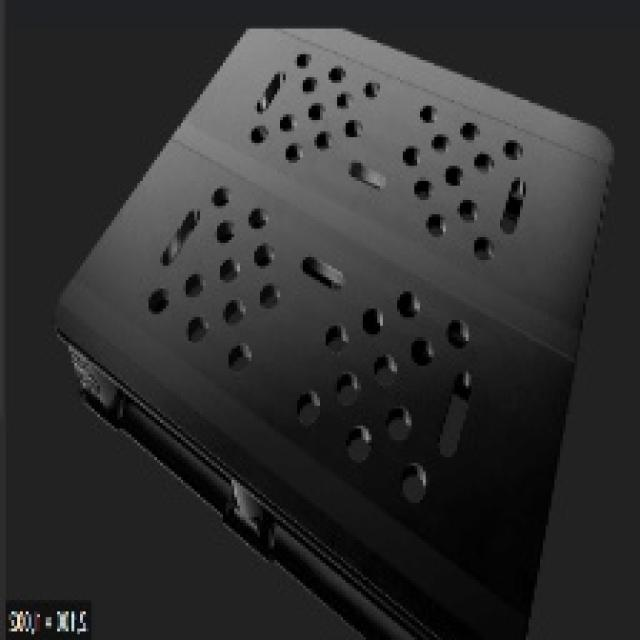igps: (43, 20, 623, 640)
